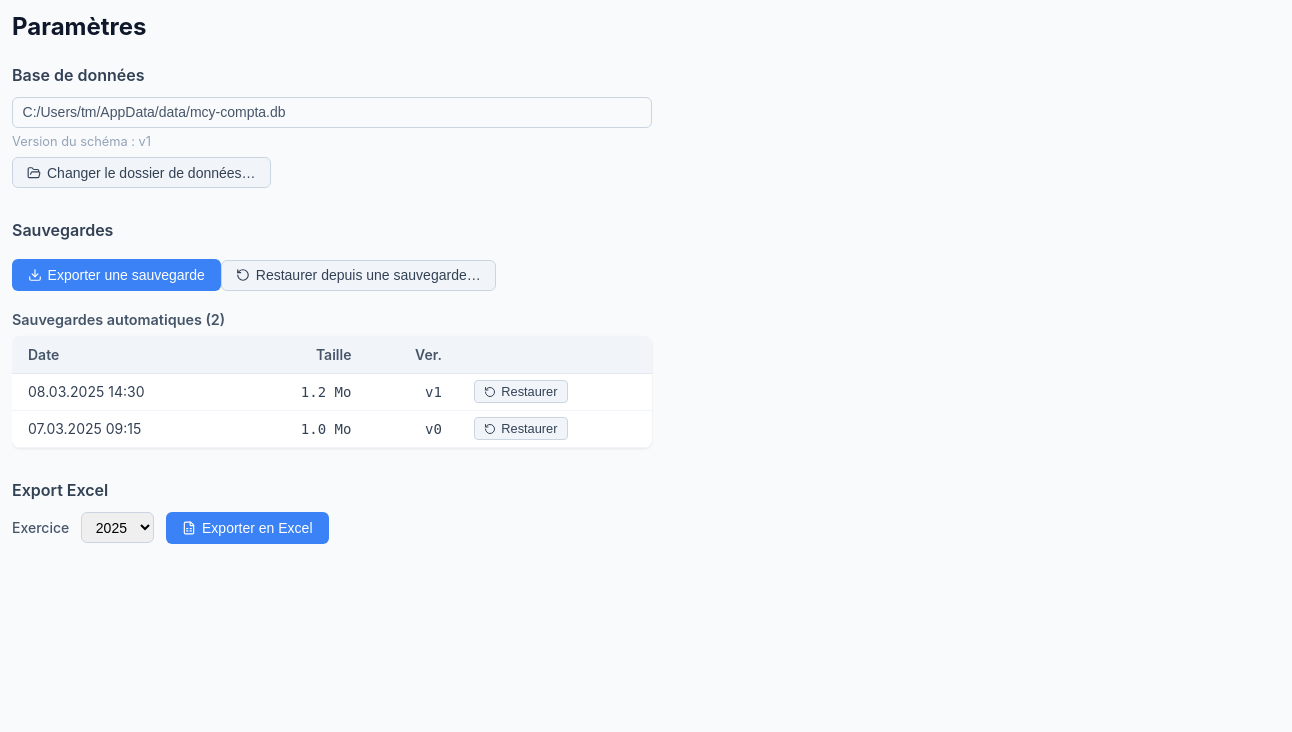
Test: SettingsPage — changer le dossier › affiche le bandeau d'erreur si changeDataDir() rejette
This screenshot has width=1292, height=732.
Click the button "Changer le dossier de données…".
click(142, 173)  # box [12,157,271,188]
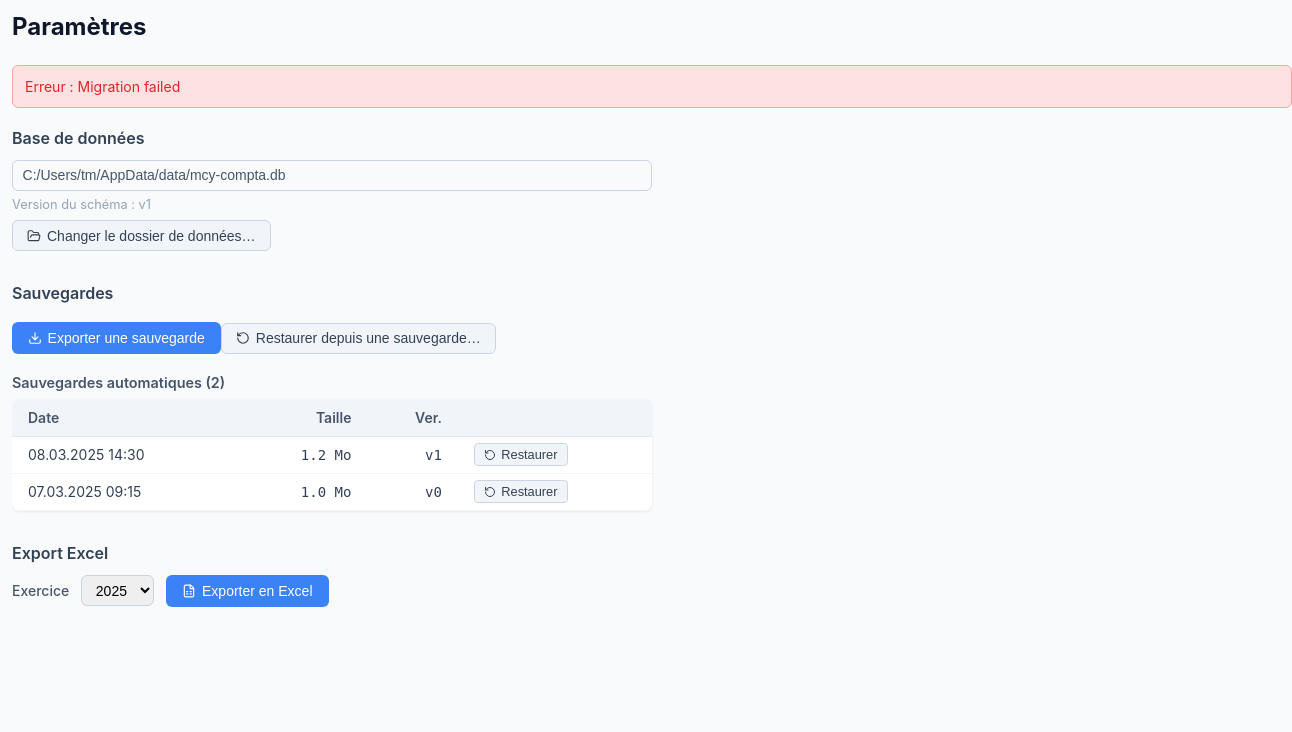
Expected: the message "Erreur : Migration failed" is shown, [12,65,1291,108]
